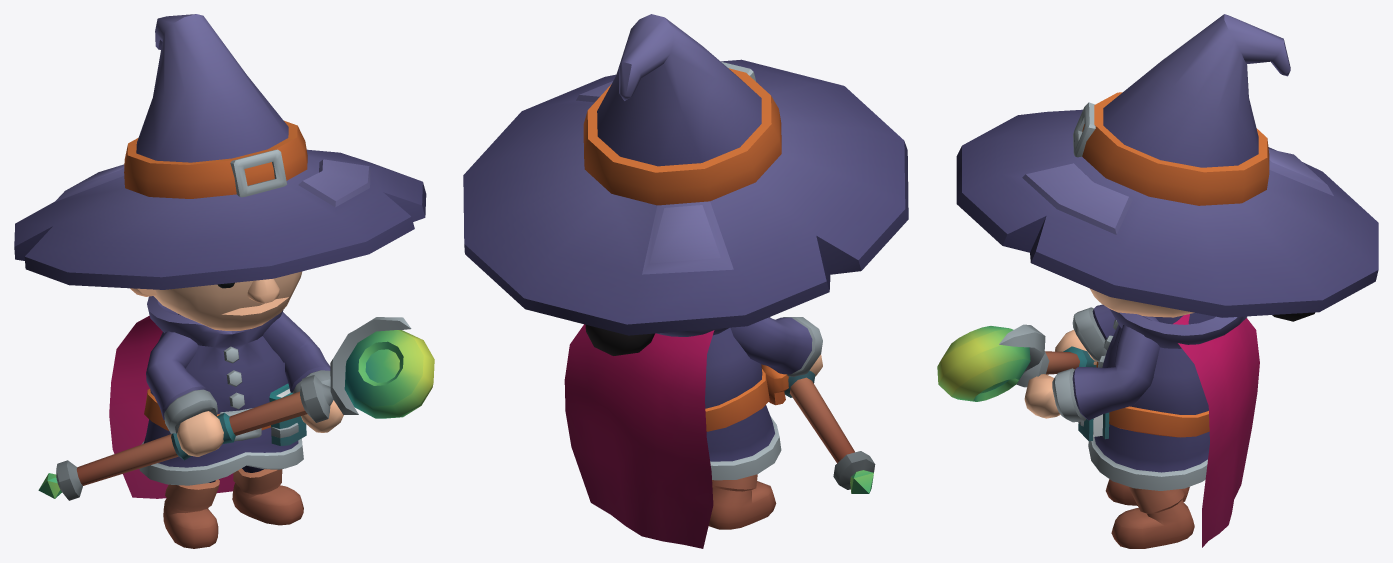
File: mage.glb
3 renders of one model, left to right at view 1: azimuth 30°, elevation 25°; view 2: azimuth 150°, elevation 25°; view 3: azimuth 270°, elevation 25°, orthographic. The views are drawn at different scales.
Parts seen in each view (by area): view 1: Mage_Hat, 2H_Staff, Mage_Body, Mage_ArmRight, Mage_Cape, Mage_Head, Mage_ArmLeft, Mage_LegLeft, Mage_LegRight; view 2: Mage_Hat, Mage_Cape, Mage_Body, Mage_ArmRight, 2H_Staff, Mage_LegRight, Mage_Head; view 3: Mage_Hat, Mage_Body, Mage_Cape, 2H_Staff, Mage_ArmLeft, Mage_LegLeft, Mage_ArmRight, Mage_Head, Mage_LegRight.
Boxes of the visible parts, <box> form: Mage_Hat: <box>14,14,426,289</box>; 2H_Staff: <box>38,317,434,500</box>; Mage_Body: <box>139,296,306,485</box>; Mage_ArmRight: <box>146,315,223,456</box>; Mage_Cape: <box>109,315,234,498</box>; Mage_Head: <box>130,271,302,330</box>; Mage_ArmLeft: <box>263,312,343,432</box>; Mage_LegLeft: <box>232,465,303,525</box>; Mage_LegRight: <box>163,479,219,548</box>; Mage_Hat: <box>463,14,908,335</box>; Mage_Cape: <box>564,324,714,548</box>; Mage_Body: <box>657,327,788,480</box>; Mage_ArmRight: <box>730,317,822,376</box>; 2H_Staff: <box>784,370,875,493</box>; Mage_LegRight: <box>708,474,776,529</box>; Mage_Head: <box>585,325,654,355</box>; Mage_Hat: <box>956,14,1378,317</box>; Mage_Body: <box>1078,309,1247,490</box>; Mage_Cape: <box>1173,314,1259,547</box>; 2H_Staff: <box>937,324,1096,401</box>; Mage_ArmLeft: <box>1024,316,1159,422</box>; Mage_LegLeft: <box>1111,487,1194,548</box>; Mage_ArmRight: <box>1055,304,1115,364</box>; Mage_Head: <box>1089,288,1315,321</box>; Mage_LegRight: <box>1105,479,1189,505</box>.
Bounding box in the file's own units: 2.09 × 2.71 × 2.16.
1 material, 1 textured.
